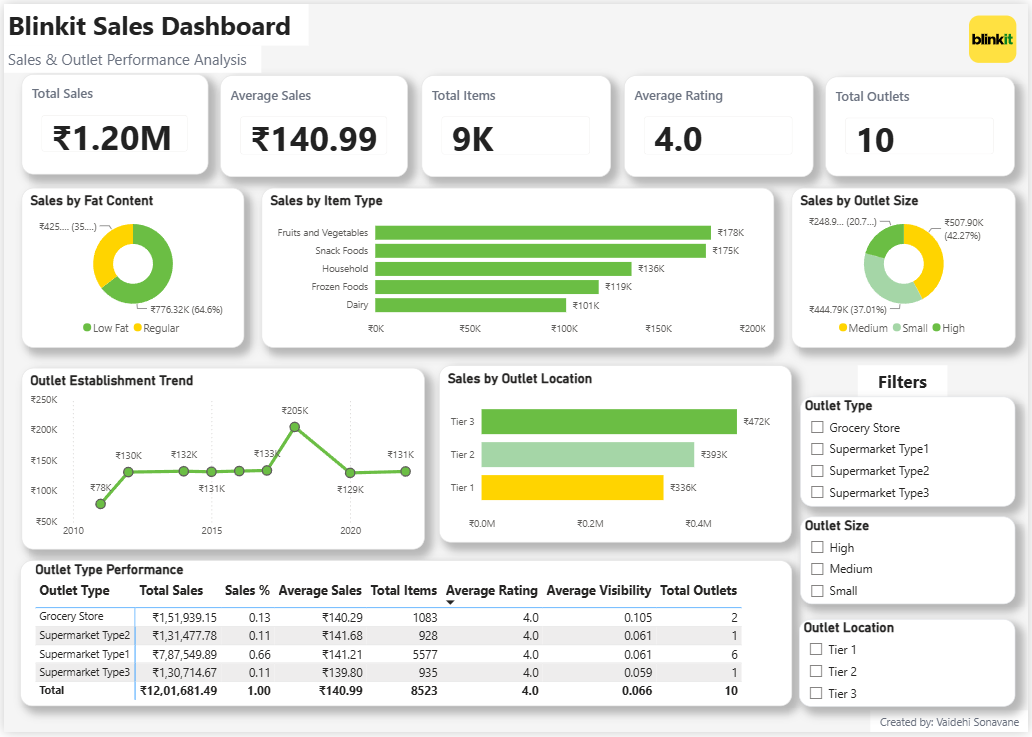

The page's visual inventory and layout, read from the dashboard file:
{"tool":"powerbi","page":{"name":"Page 1","canvas":[1280,910],"ordinal":0},"visuals":[{"type":"cardVisual","title":"Total Sales","fields":{"Data":["BlinkIT.Total Sales"]},"box":[21.6,88.2,233.3,125.5],"z":0},{"type":"cardVisual","title":"Average Sales","fields":{"Data":["BlinkIT.Average Sales"]},"box":[271,88.5,234.6,126.9],"z":1000},{"type":"cardVisual","title":"Total Items","fields":{"Data":["BlinkIT.Total Items"]},"box":[521.7,88.5,236.5,126.9],"z":2000},{"type":"cardVisual","title":"Average Rating","fields":{"Data":["BlinkIT.Average Rating"]},"box":[774.3,88.5,236.5,126.9],"z":3000},{"type":"cardVisual","title":"Total Outlets","fields":{"Data":["BlinkIT.Total Outlets"]},"box":[1026.9,90.4,236.5,125],"z":4000},{"type":"textbox","box":[0,0,380.4,52.2],"z":5000},{"type":"textbox","box":[0,52.2,321.7,34.8],"z":6000},{"type":"donutChart","title":"Sales by Fat Content","fields":{"Category":["BlinkIT.Item Fat Content"],"Y":["BlinkIT.Total Sales"]},"box":[21.6,229.4,278.4,200],"z":7000},{"type":"clusteredBarChart","title":"Sales by Item Type","fields":{"Category":["BlinkIT.Item Type"],"Y":["BlinkIT.Total Sales"]},"box":[321.6,229.4,641.2,200],"z":8000},{"type":"donutChart","title":"Sales by Outlet Size","fields":{"Category":["BlinkIT.Outlet Size"],"Y":["BlinkIT.Total Sales"]},"box":[984.3,229.4,280.4,200],"z":9000},{"type":"lineChart","title":"Outlet Establishment Trend","fields":{"Category":["BlinkIT.Outlet Establishment Year"],"Y":["BlinkIT.Total Sales"]},"box":[21.6,454.9,503.9,227.5],"z":10000},{"type":"clusteredBarChart","title":"Sales by Outlet Location","fields":{"Category":["BlinkIT.Outlet Location Type"],"Y":["BlinkIT.Total Sales"]},"box":[543.1,451,441.2,221.6],"z":11000},{"type":"pivotTable","title":"Outlet Type Performance","fields":{"Rows":["BlinkIT.Outlet Type"],"Values":["BlinkIT.Total Sales","BlinkIT.Sales %","BlinkIT.Average Sales","BlinkIT.Total Items","BlinkIT.Average Rating","BlinkIT.Average Visibility","BlinkIT.Total Outlets"]},"box":[19.6,696.1,964.7,182.4],"z":12000},{"type":"textbox","box":[1066.7,451,111.8,41.2],"z":13000},{"type":"textbox","box":[1082.4,882.4,198,27.5],"z":14000},{"type":"slicer","title":"Outlet Type","fields":{"Values":["BlinkIT.Outlet Type"]},"box":[996.1,490.2,268.6,137.3],"z":15000},{"type":"slicer","title":"Outlet Size","fields":{"Values":["BlinkIT.Outlet Size"]},"box":[996.1,641.2,268.6,109.8],"z":16000},{"type":"slicer","title":"Outlet Location","fields":{"Values":["BlinkIT.Outlet Location Type"]},"box":[994.1,768.6,270.6,109.8],"z":17000},{"type":"image","box":[1205.9,0,58.8,88.2],"z":17001}]}

Visuals, with their boxes in screenshot pixels (x1, y1, x2, y2), scaled from the page's 1280x910 canvas onto the 1032x737 screenshot:
"Total Sales" cardVisual: [17, 71, 206, 173]
"Average Sales" cardVisual: [218, 72, 408, 174]
"Total Items" cardVisual: [421, 72, 611, 174]
"Average Rating" cardVisual: [624, 72, 815, 174]
"Total Outlets" cardVisual: [828, 73, 1019, 174]
textbox: [0, 0, 307, 42]
textbox: [0, 42, 259, 70]
"Sales by Fat Content" donutChart: [17, 186, 242, 348]
"Sales by Item Type" clusteredBarChart: [259, 186, 776, 348]
"Sales by Outlet Size" donutChart: [794, 186, 1020, 348]
"Outlet Establishment Trend" lineChart: [17, 368, 424, 553]
"Sales by Outlet Location" clusteredBarChart: [438, 365, 794, 545]
"Outlet Type Performance" pivotTable: [16, 564, 794, 711]
textbox: [860, 365, 950, 399]
textbox: [873, 715, 1031, 736]
"Outlet Type" slicer: [803, 397, 1020, 508]
"Outlet Size" slicer: [803, 519, 1020, 608]
"Outlet Location" slicer: [801, 622, 1020, 711]
image: [972, 0, 1020, 71]
